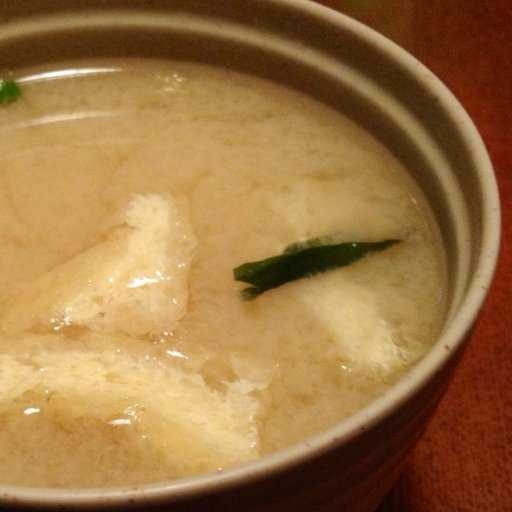soup: (1, 28, 471, 503)
